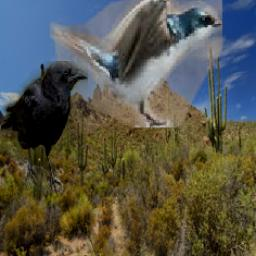Crow: (1, 62, 88, 194)
Swallow: (51, 0, 223, 129)
